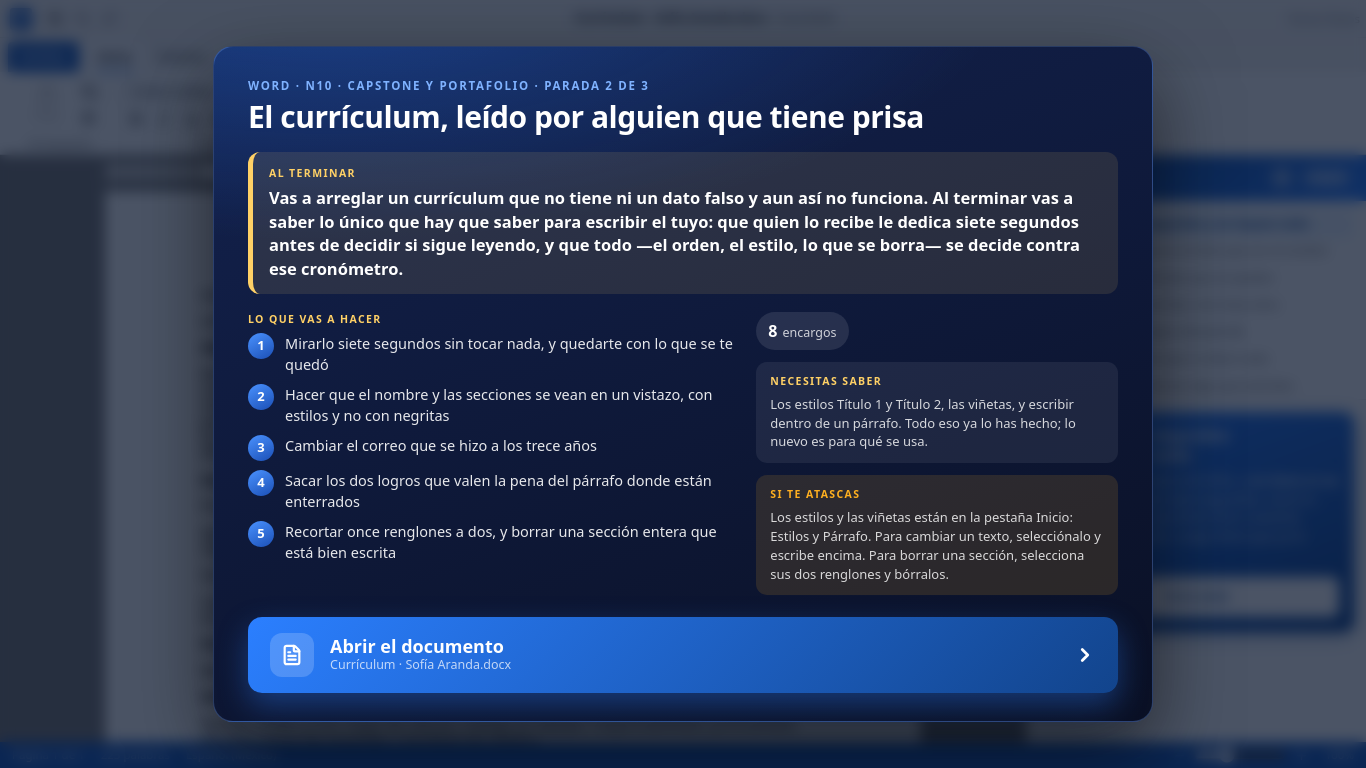
it: VentanaTextos · n10-portafolio-y-cv se pinta › la portada anuncia el tema y el documento abre entero en Normal
Expected: the heading "El currículum, leído por alguien que tiene prisa" is shown, [248,96,924,137]
Click the button "Abrir el documento Currículum · Sofía Aranda.docx": coordinates (292, 655) [248,617,1118,693]
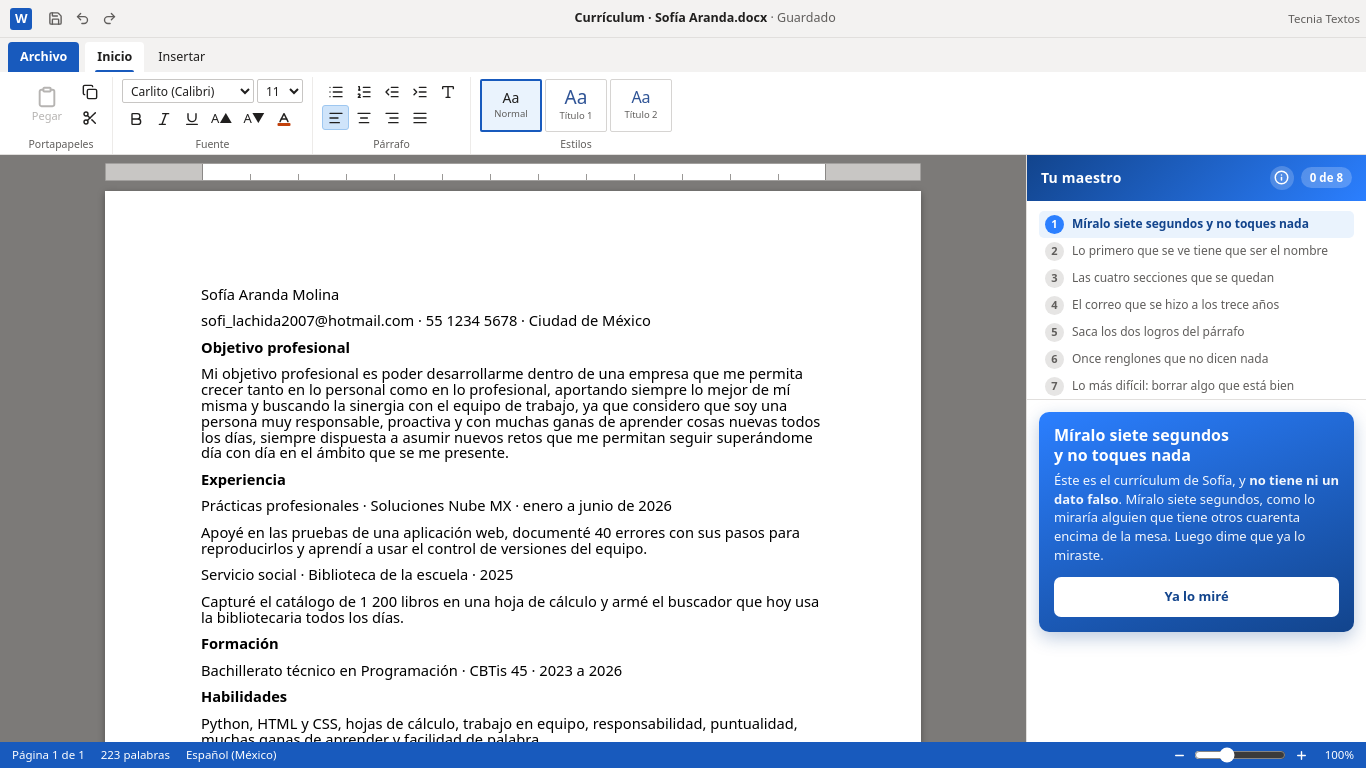
Expected: the dialog with class "txtw-portada" is gone
